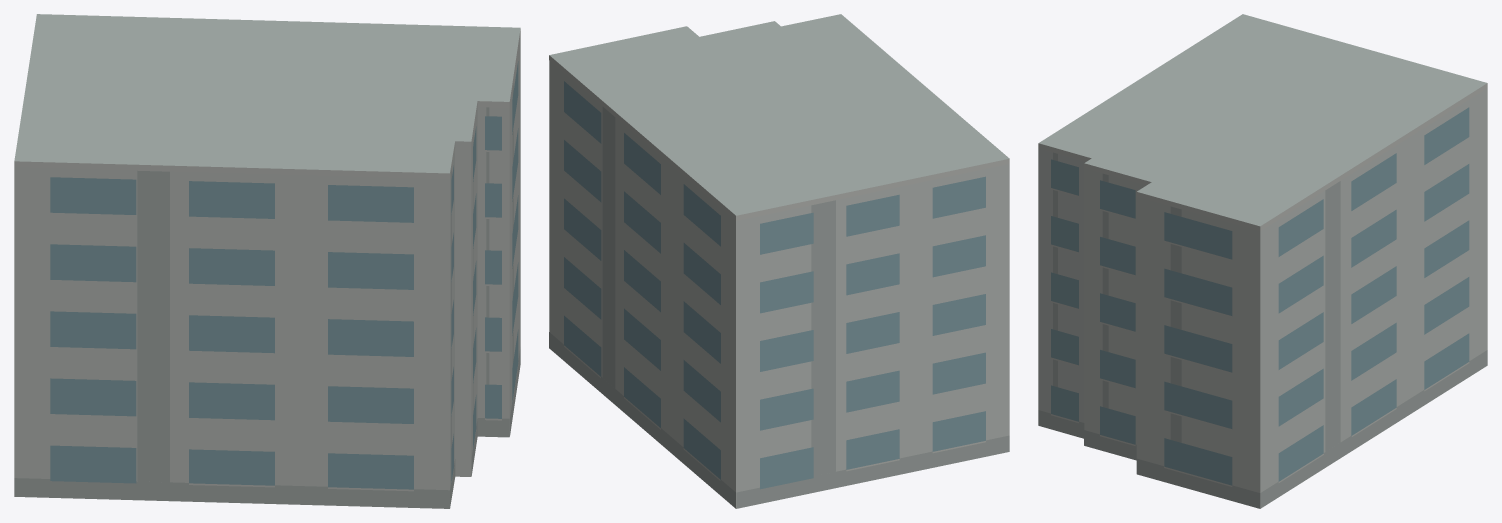
File: survey-upis-32627027.glb
3 views of the same model, side by side, from view 1: azimuth 30°, elevation 25°; view 2: azimuth 150°, elevation 25°; view 3: azimuth 270°, elevation 25° (orthographic). The views are drawn at different scales.
Visible parts, largest first — view 1: survey-upis-32627027.tmp; view 2: survey-upis-32627027.tmp; view 3: survey-upis-32627027.tmp.
Part boxes in pixels (<box>): survey-upis-32627027.tmp: <box>14,14,520,508</box>; survey-upis-32627027.tmp: <box>549,14,1009,508</box>; survey-upis-32627027.tmp: <box>1038,14,1487,508</box>.
Size of the model in its own units: 21.77 by 13.5 by 19.46.
